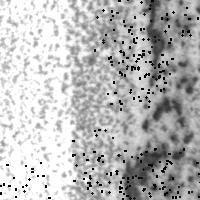pitted_surface: (1, 1, 125, 198), (132, 1, 200, 195), (107, 50, 166, 108), (72, 129, 131, 187), (114, 38, 171, 97), (94, 0, 154, 56), (87, 151, 145, 200), (151, 148, 200, 200), (143, 0, 200, 39), (116, 160, 169, 200), (122, 152, 163, 200), (0, 162, 48, 200)
